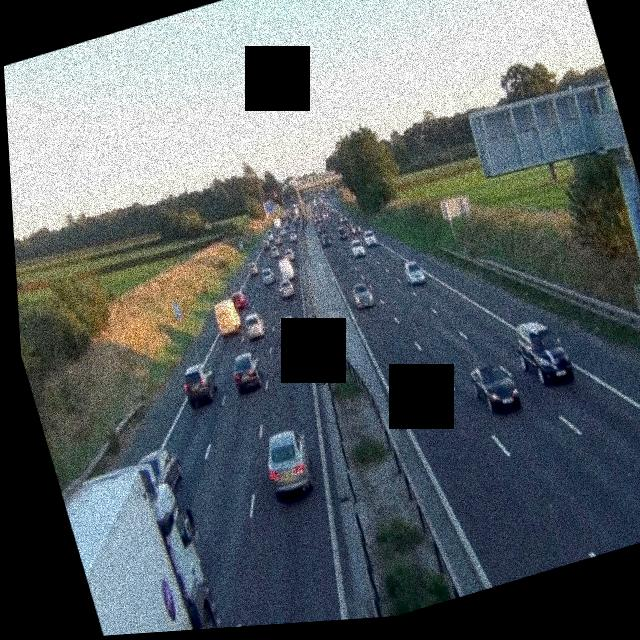car: (509, 312, 575, 391), (258, 425, 318, 499), (466, 356, 522, 417), (134, 443, 187, 500), (178, 360, 223, 410), (226, 348, 268, 394), (275, 312, 302, 346), (240, 310, 267, 342), (349, 278, 375, 309), (402, 257, 426, 285), (275, 274, 296, 299), (229, 288, 249, 313), (258, 263, 276, 285), (360, 227, 378, 248), (349, 238, 366, 259), (245, 260, 259, 277), (320, 231, 332, 247), (336, 227, 348, 243), (283, 247, 295, 262)
truck: (57, 446, 233, 638), (210, 296, 241, 336)
